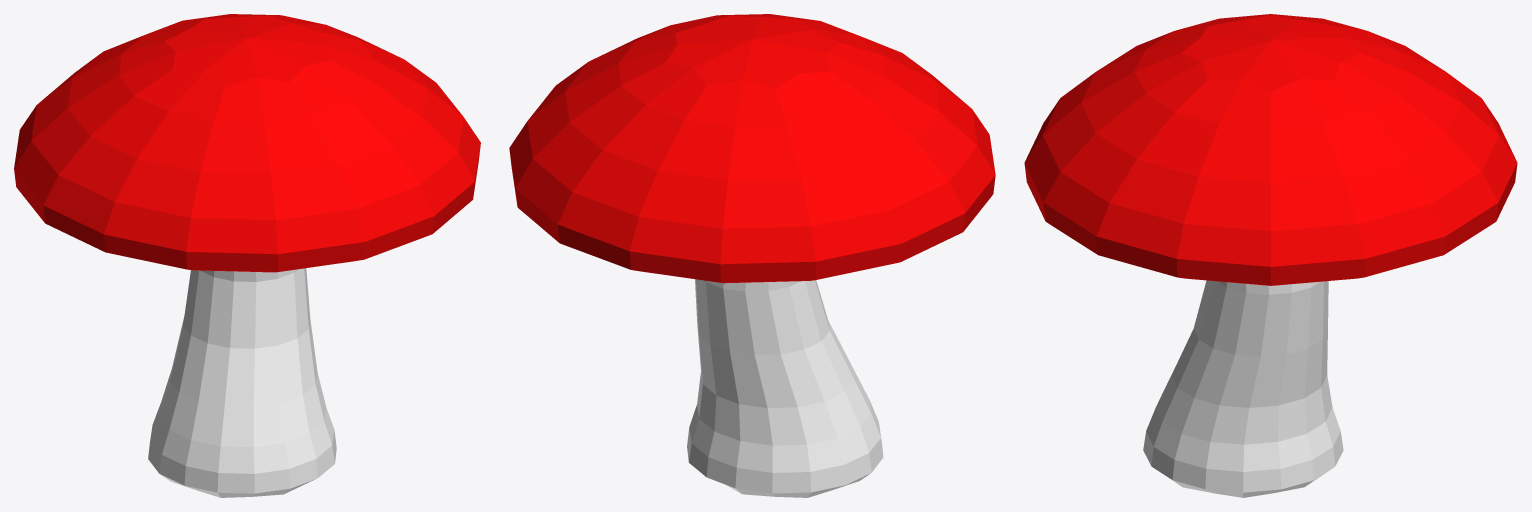
File: Champignon.fbx
3 views of the same model, side by side, from view 1: azimuth 30°, elevation 25°; view 2: azimuth 150°, elevation 25°; view 3: azimuth 270°, elevation 25° (orthographic). The views are drawn at different scales.
Parts seen in each view (by area): view 1: Cylinder; view 2: Cylinder; view 3: Cylinder.
Part boxes in pixels (x1,y1,x2,y2): Cylinder: (14, 14, 480, 497); Cylinder: (509, 14, 995, 497); Cylinder: (1024, 14, 1517, 497).
Size of the model in its own units: 338 by 332 by 338.
